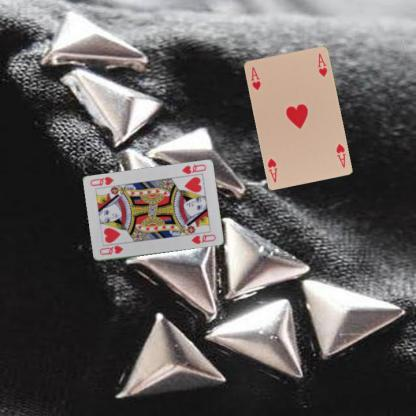Ah: (334, 141, 348, 169), (248, 64, 262, 91)
Qh: (97, 242, 124, 257), (179, 162, 207, 176)
